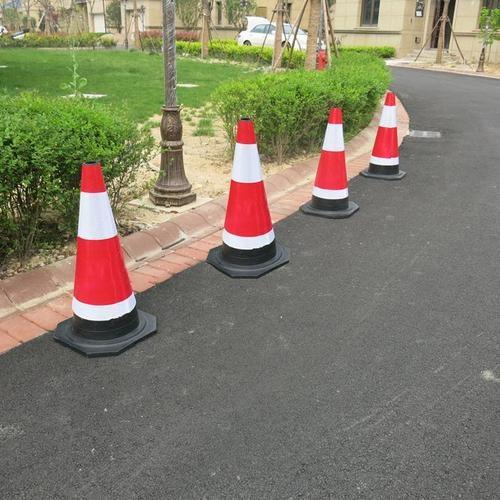cone_barrel: (55, 157, 149, 350), (209, 113, 288, 279), (301, 104, 356, 218), (361, 87, 404, 181)
